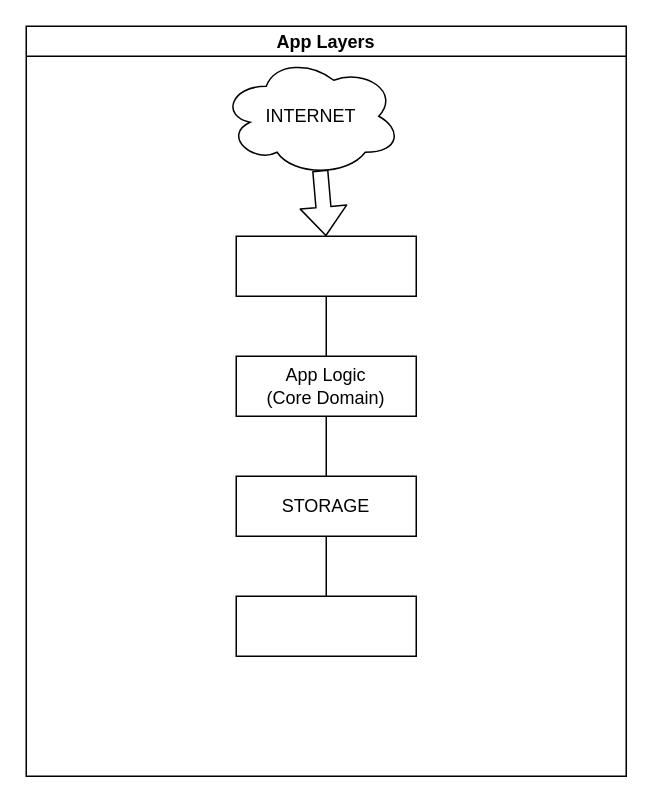
Some shapes in this 653 by 803 pixel diagram are drawn without their labels. The box of each missing label's shape, as (x1, y1, x2, y2) in pixels:
Database (MongoDB): (235, 595, 416, 656)
Express HTTP Handler: (235, 235, 416, 296)
